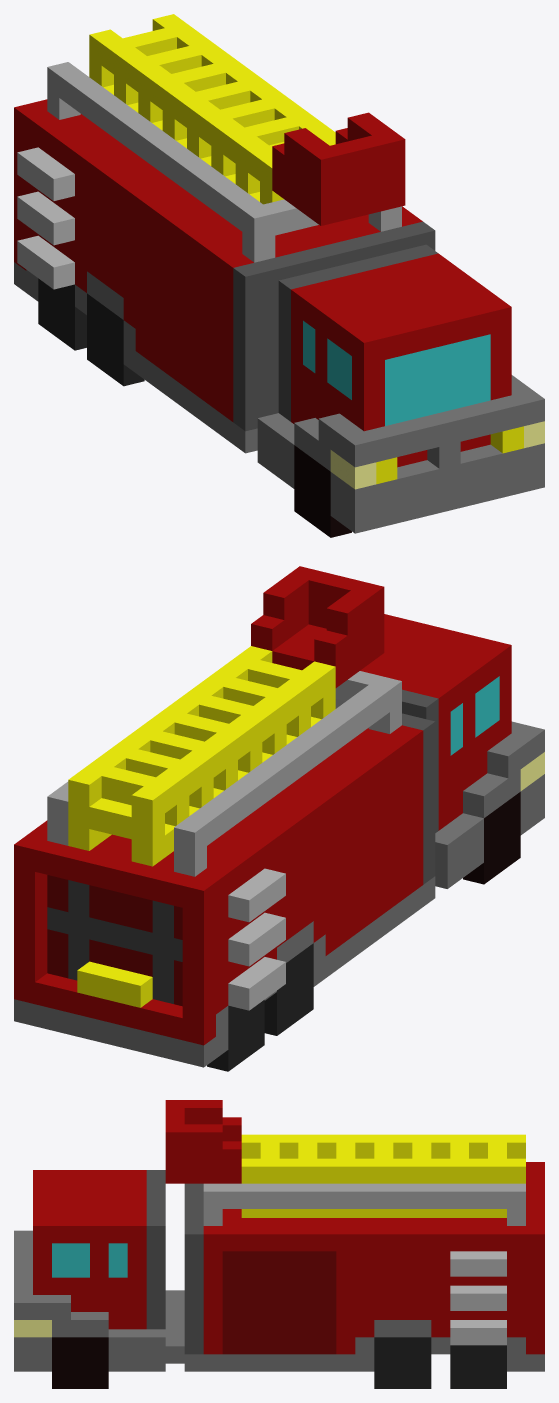
The model's file is FIRETRUCK.obj.
3 views of the same model, one above another, from view 1: azimuth 30°, elevation 25°; view 2: azimuth 150°, elevation 25°; view 3: azimuth 270°, elevation 25° (orthographic). The views are drawn at different scales.
Bounding box in the file's own units: 1.1 × 1.4 × 2.8.
1 material, 1 textured.
